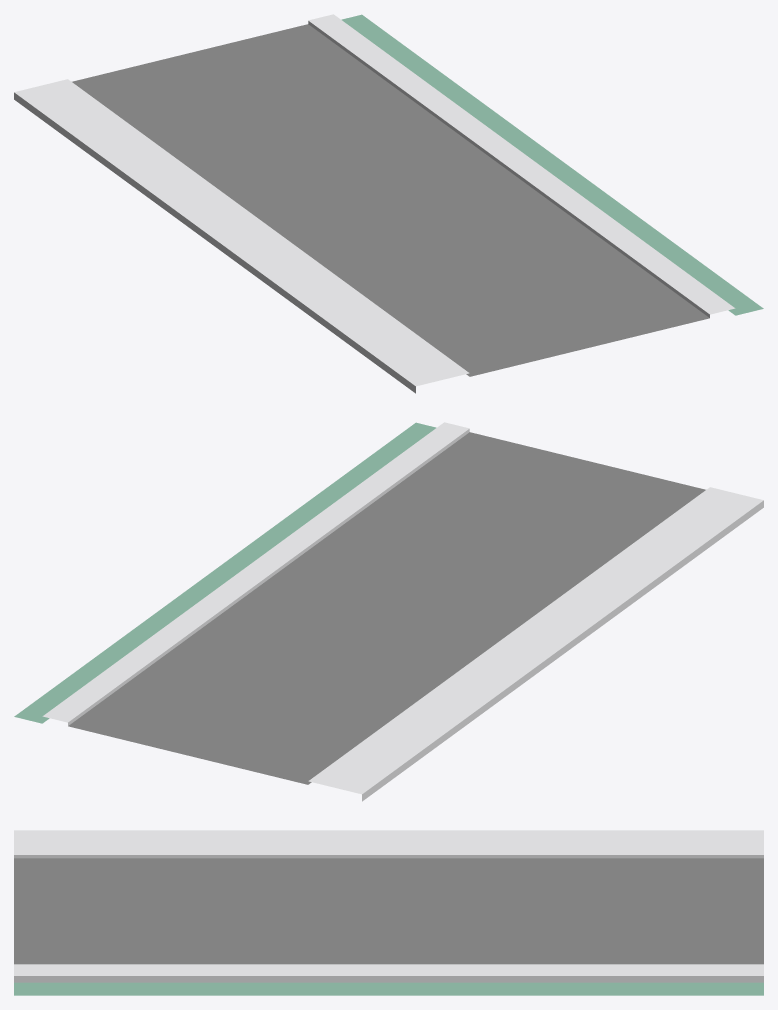
Rendered from roadPitStraightLong.gltf.
3 views of the same model, one above another, from view 1: azimuth 30°, elevation 25°; view 2: azimuth 150°, elevation 25°; view 3: azimuth 270°, elevation 25° (orthographic). The views are drawn at different scales.
Visible parts, largest first — view 1: roadPitStraightLong; view 2: roadPitStraightLong; view 3: roadPitStraightLong.
Part boxes in pixels (x1,y1,x2,y2): roadPitStraightLong: (14, 14, 763, 393); roadPitStraightLong: (14, 422, 763, 801); roadPitStraightLong: (14, 830, 763, 995).
Bounding box in the file's own units: 10 × 0.2 × 20.
